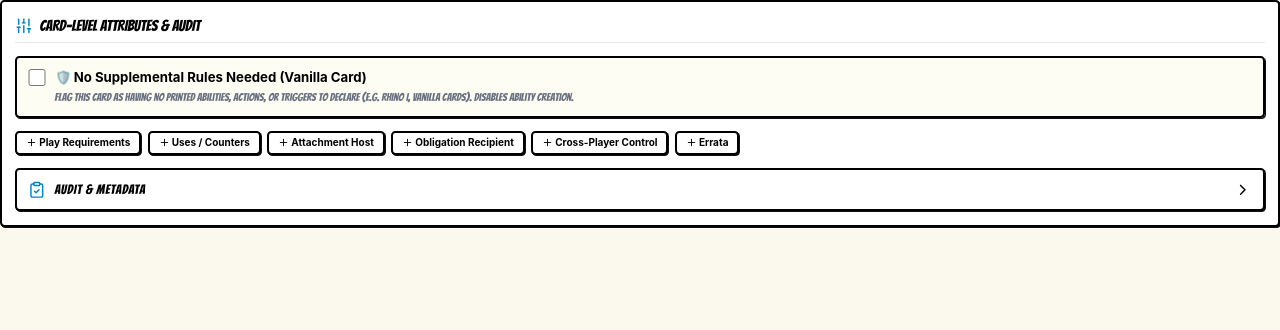
CardAttributesSection card-level chip bar › adding the playUnderAnyPlayerControl chip writes its default value and renders its form
Click the button with test id "card-chip-add-playUnderAnyPlayerControl" at {"x": 600, "y": 143}, box [531,131,668,155]
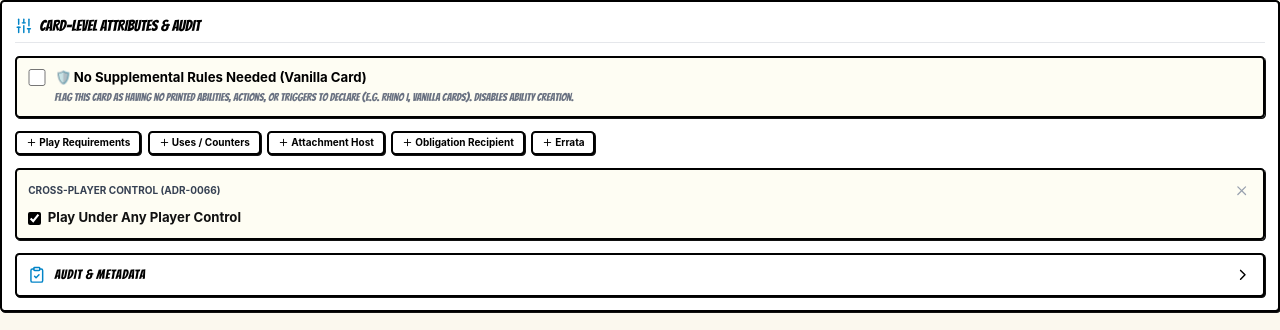
Check: the button with test id "card-chip-add-playUnderAnyPlayerControl" is gone
